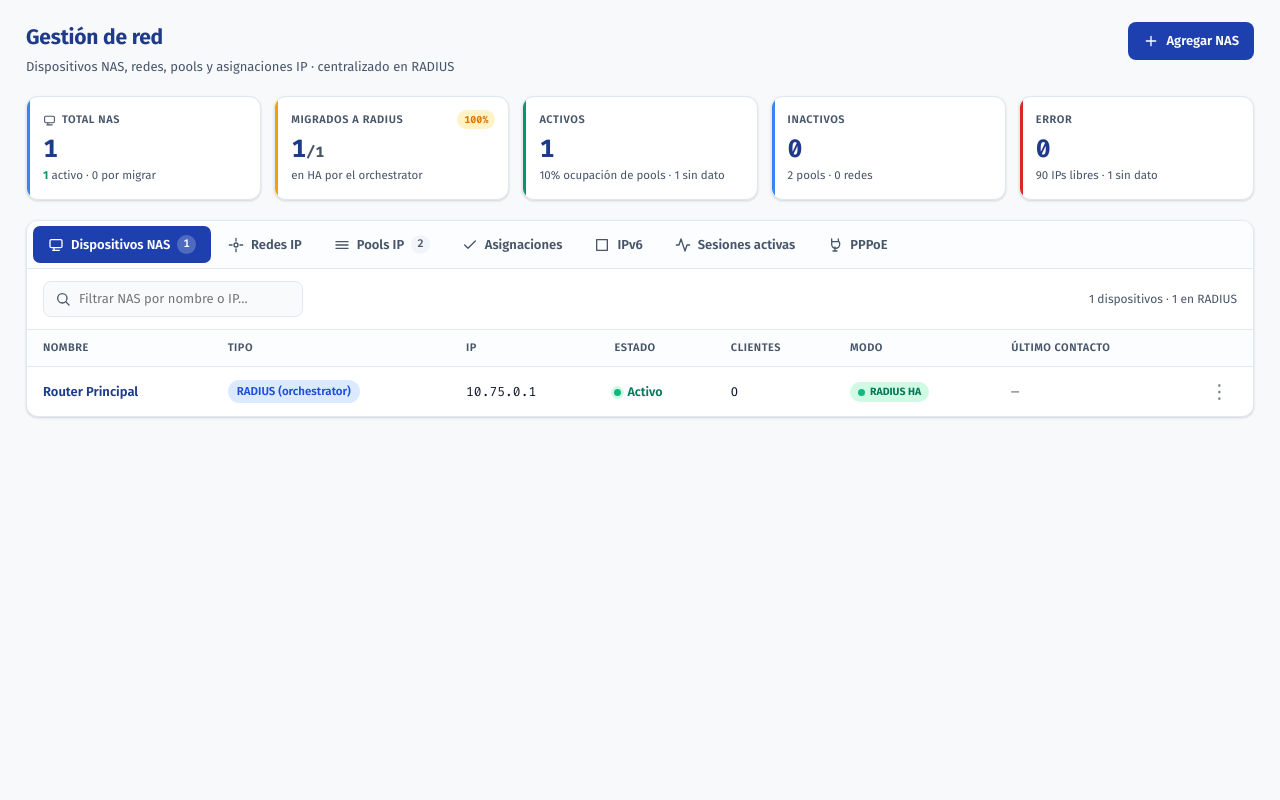
Scenario: GestionRedPage — Tab Pools IP › P-3: KPIs null-safe › muestra badge "1 sin dato" cuando hay un pool sin dato
The width and height of the screenshot is (1280, 800).
Click the button "Pools IP 2".
click(382, 245)  # box [319,226,445,263]
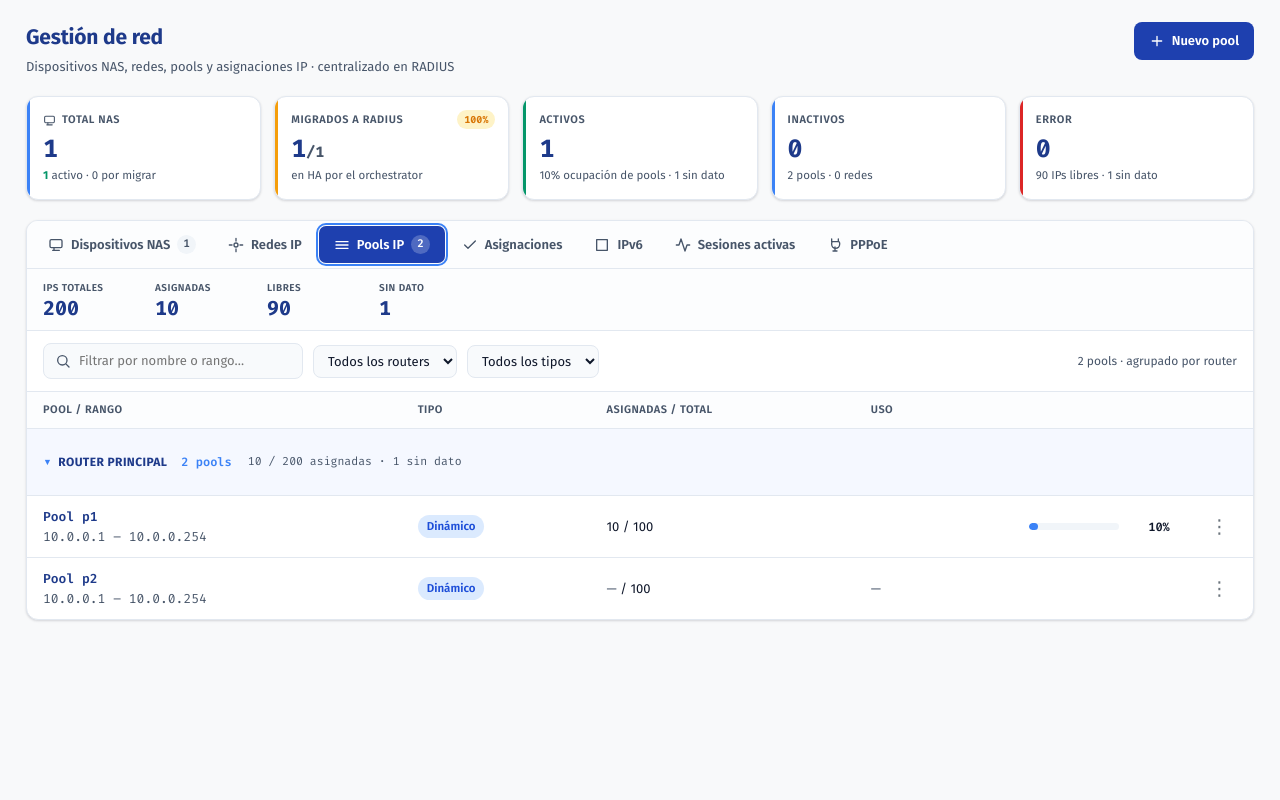
Check: the element named "Totales de pools" shows "Sin dato", box [379,282,424,294]
Check: the element named "Totales de pools" shows "1", box [379,295,391,321]
